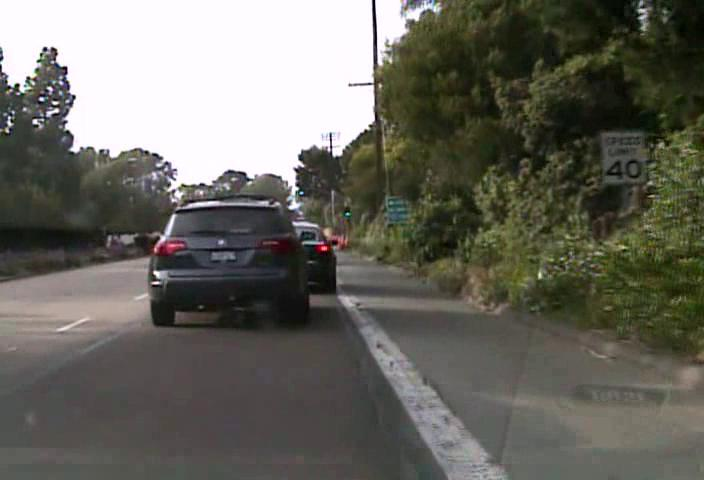speedLimit40: (599, 129, 648, 185)
